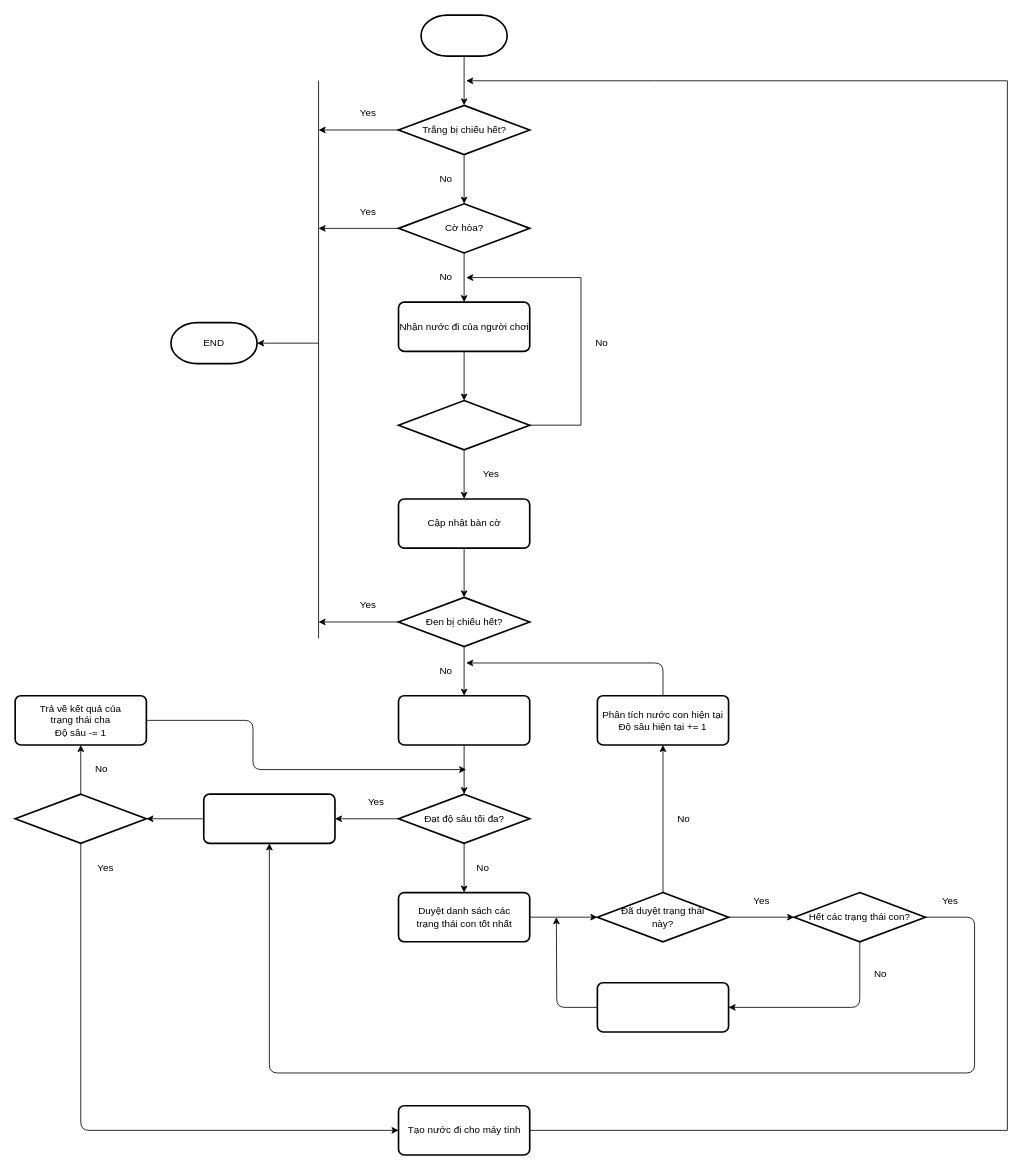
The diagram is 1023 pixels wide and 1169 high, and some of its shapes have lost their labels. Here are the shapes that lost their labels. From the top down, the centre of each, then its label:
At point (464, 35): "START".
At point (463, 424): "Nước đi hợp lệ?".
At point (463, 720): "Lấy ra 4 nước đi tốt nhất, độ sâu ban đầu: 0, độ sâu tối đa: 5".
At point (80, 818): "Độ sâu == 0?".
At point (269, 818): "Chọn ra nước tốt nhất".
At point (662, 1007): "Chuyển tới trạng thái tiếp theo".
